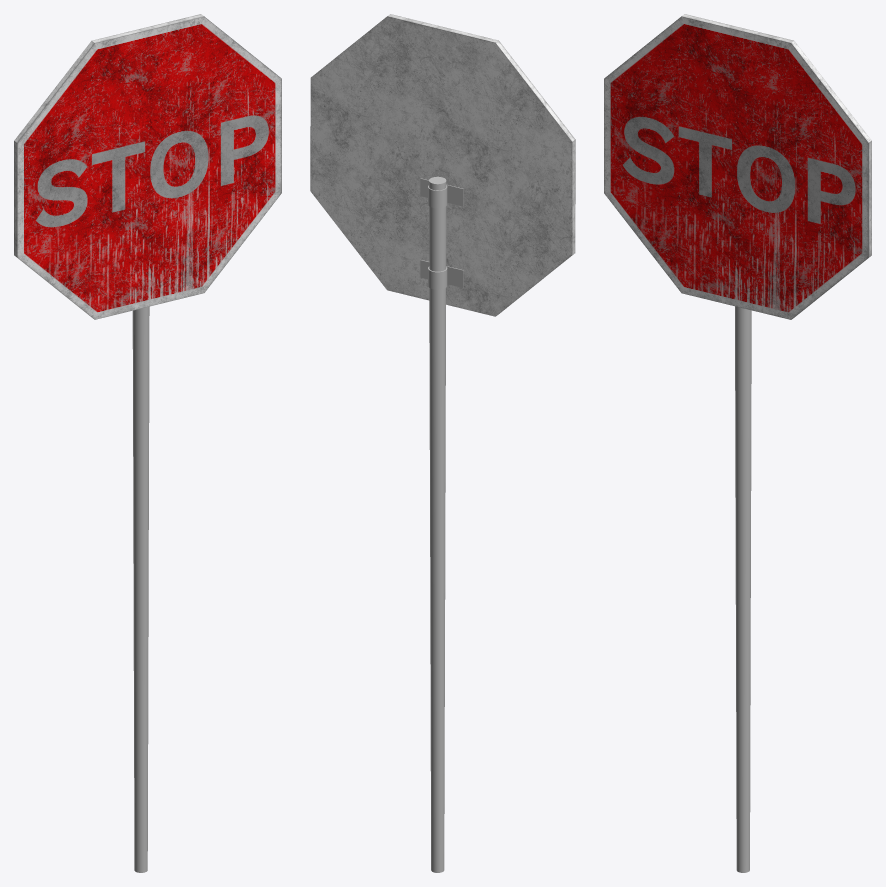
File: Stop.fbx
3 views of the same model, side by side, from view 1: azimuth 30°, elevation 25°; view 2: azimuth 150°, elevation 25°; view 3: azimuth 330°, elevation 25° (orthographic).
Parts seen in each view (by area): view 1: PlacaStop; view 2: PlacaStop; view 3: PlacaStop.
Boxes of the visible parts, left/top/right/bottom form: PlacaStop: left=14, top=14, right=281, bottom=872; PlacaStop: left=310, top=14, right=575, bottom=872; PlacaStop: left=604, top=14, right=871, bottom=872.
Size of the model in its own units: 0.467 by 1.43 by 0.0388.
